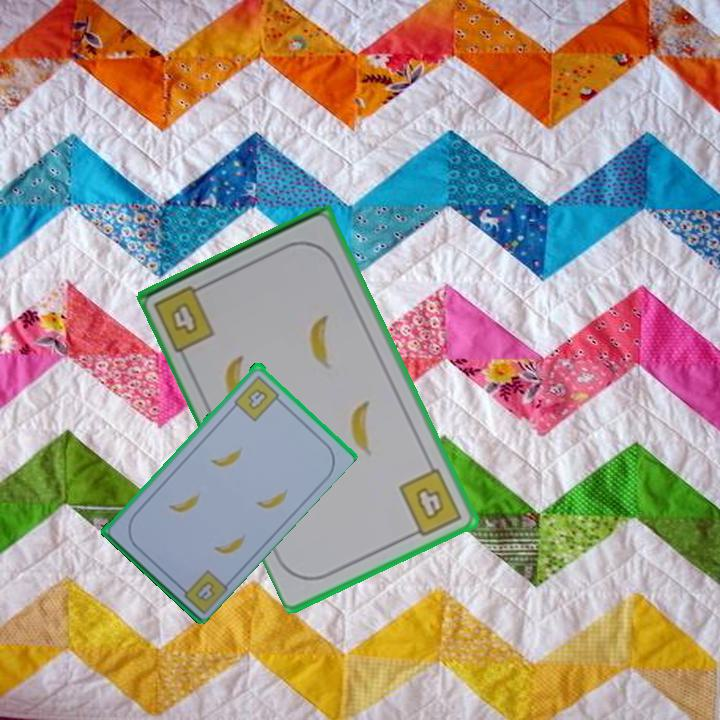4b: (395, 464, 465, 541), (150, 279, 218, 355), (173, 565, 230, 616), (231, 372, 285, 424)
